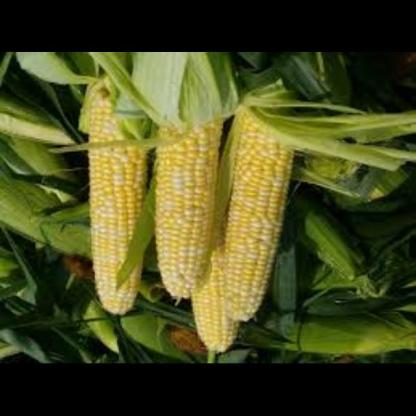corn: (212, 96, 304, 328), (77, 78, 154, 322), (147, 102, 229, 310), (184, 255, 242, 361)
